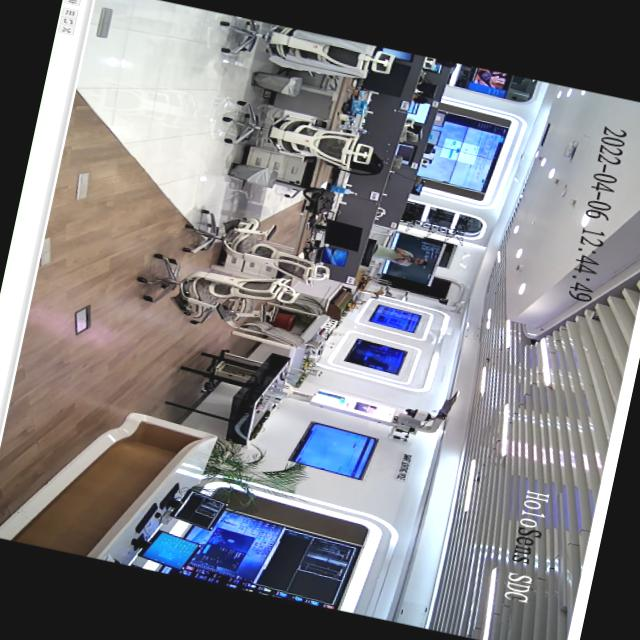long weapon: (396, 252, 414, 262)
